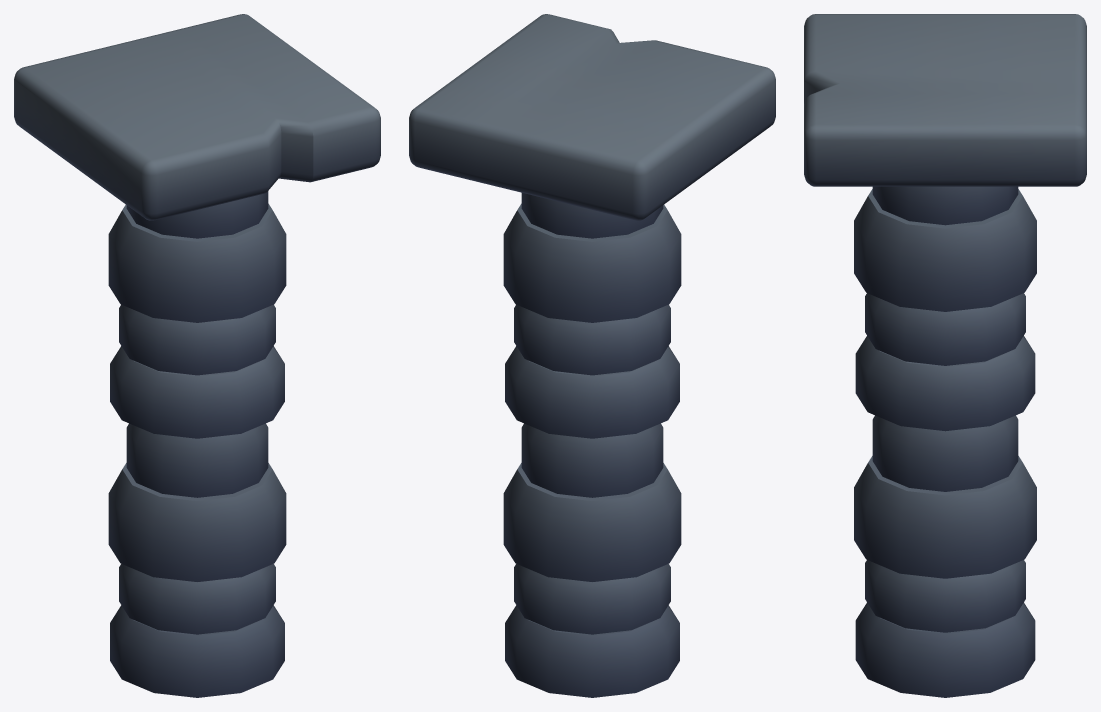
The picture shows the model from 3 angles, left to right: view 1: azimuth 30°, elevation 25°; view 2: azimuth 150°, elevation 25°; view 3: azimuth 270°, elevation 25°; orthographic projection. The views are drawn at different scales.
Parts seen in each view (by area): view 1: Cylinder_7; view 2: Cylinder_7; view 3: Cylinder_7.
Boxes of the visible parts, x1,y1,x2,y2 form: Cylinder_7: [14, 14, 380, 697]; Cylinder_7: [409, 14, 775, 697]; Cylinder_7: [804, 14, 1086, 697].
Size of the model in its own units: 37.24 by 86.57 by 37.24.
